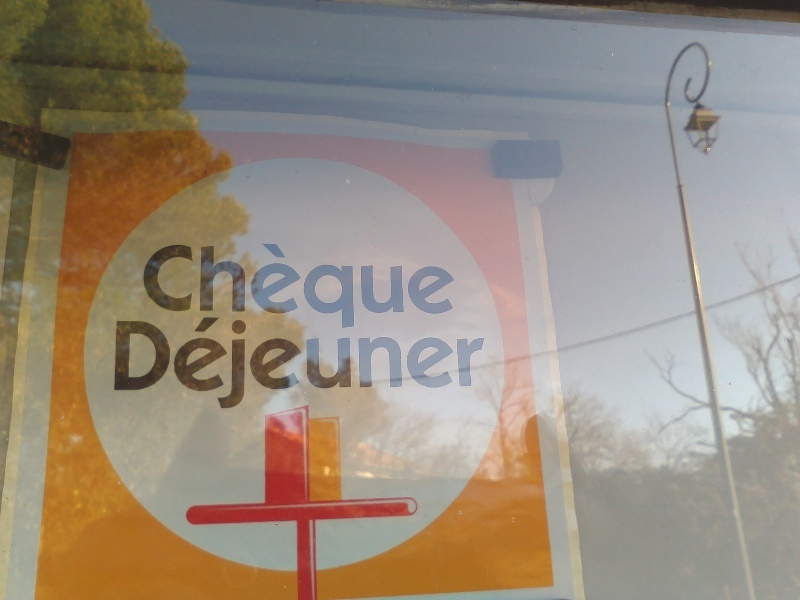text: (113, 307, 128, 412), (129, 307, 144, 412), (145, 307, 160, 412), (161, 307, 176, 412), (177, 307, 192, 412), (193, 307, 208, 412), (209, 307, 224, 412), (225, 307, 240, 412), (241, 307, 256, 412), (257, 307, 272, 412), (273, 307, 288, 412), (289, 307, 304, 412), (305, 307, 320, 412), (321, 307, 336, 412), (337, 307, 352, 412), (353, 307, 368, 412), (369, 307, 384, 412), (385, 307, 400, 412), (401, 307, 416, 412), (417, 307, 432, 412), (433, 307, 448, 412), (449, 307, 464, 412), (465, 307, 480, 412), (145, 236, 160, 336), (161, 236, 176, 336), (177, 236, 192, 336), (193, 236, 208, 336), (209, 236, 224, 336), (225, 236, 240, 336), (241, 236, 256, 336), (257, 236, 272, 336), (273, 236, 288, 336), (289, 236, 304, 336), (305, 236, 320, 336), (321, 236, 336, 336), (337, 236, 352, 336), (353, 236, 368, 336), (369, 236, 384, 336), (385, 236, 400, 336), (401, 236, 416, 336), (417, 236, 432, 336), (433, 236, 448, 336), (449, 236, 461, 336), (101, 307, 112, 412), (481, 307, 492, 412), (138, 236, 144, 336)
